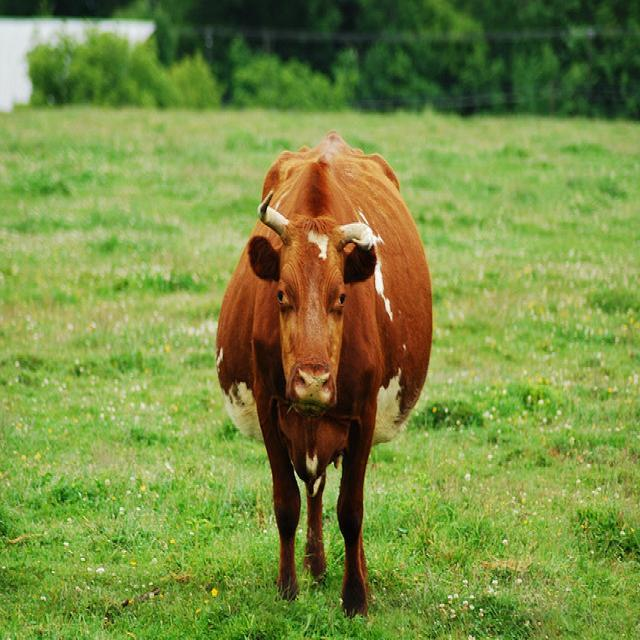cow: (211, 124, 431, 613)
